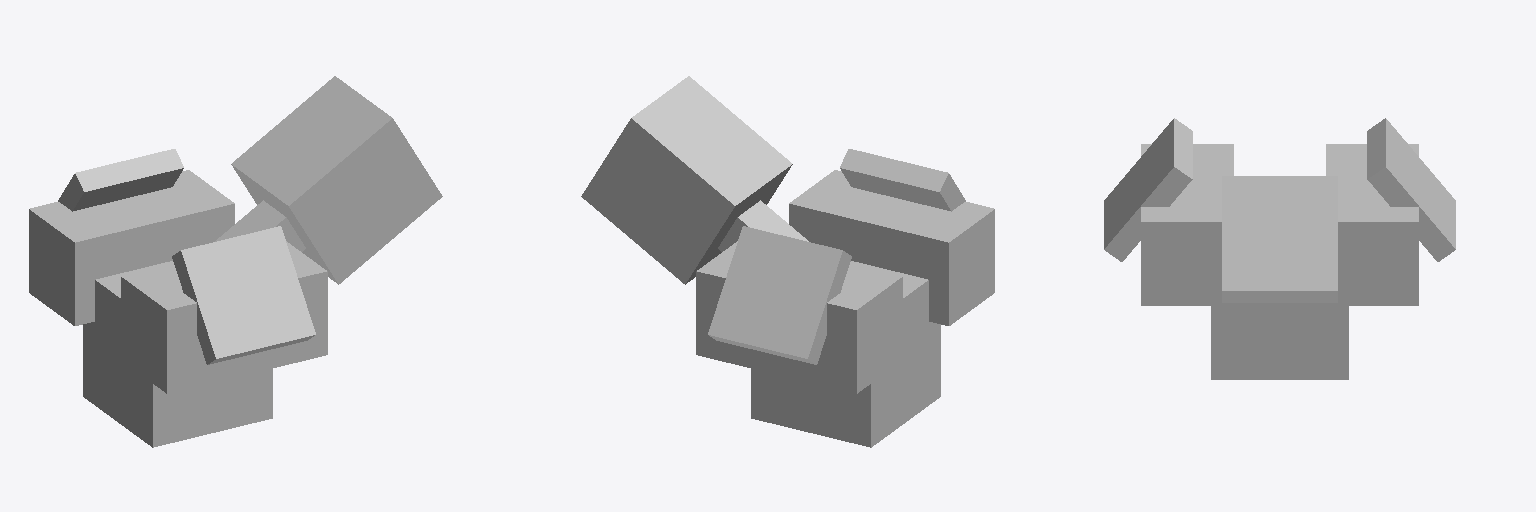
Rendered from sprinkler_high_top.obj.
3 renders of one model, left to right at view 1: azimuth 30°, elevation 25°; view 2: azimuth 150°, elevation 25°; view 3: azimuth 270°, elevation 25°, orthographic.
Visible parts, largest first — view 1: cube; view 2: cube; view 3: cube.
Part boxes in pixels (x1,y1,x2,y2): cube: (29,76,442,447); cube: (581,76,994,447); cube: (1104,118,1455,379).
Size of the model in its own units: 0.986 by 0.7916 by 0.9523.